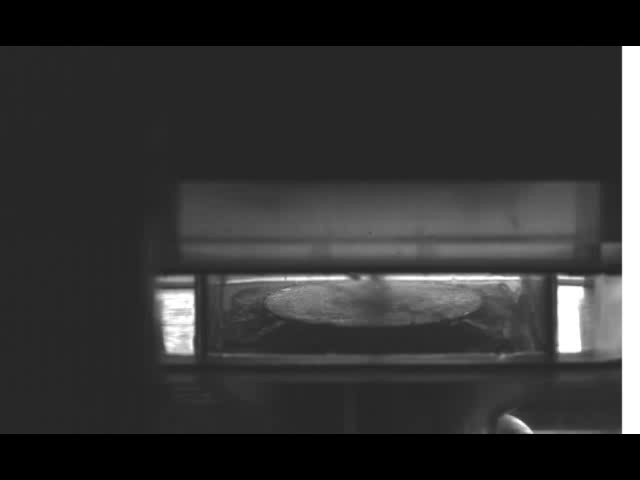Zona de teste: (261, 279, 479, 325)
